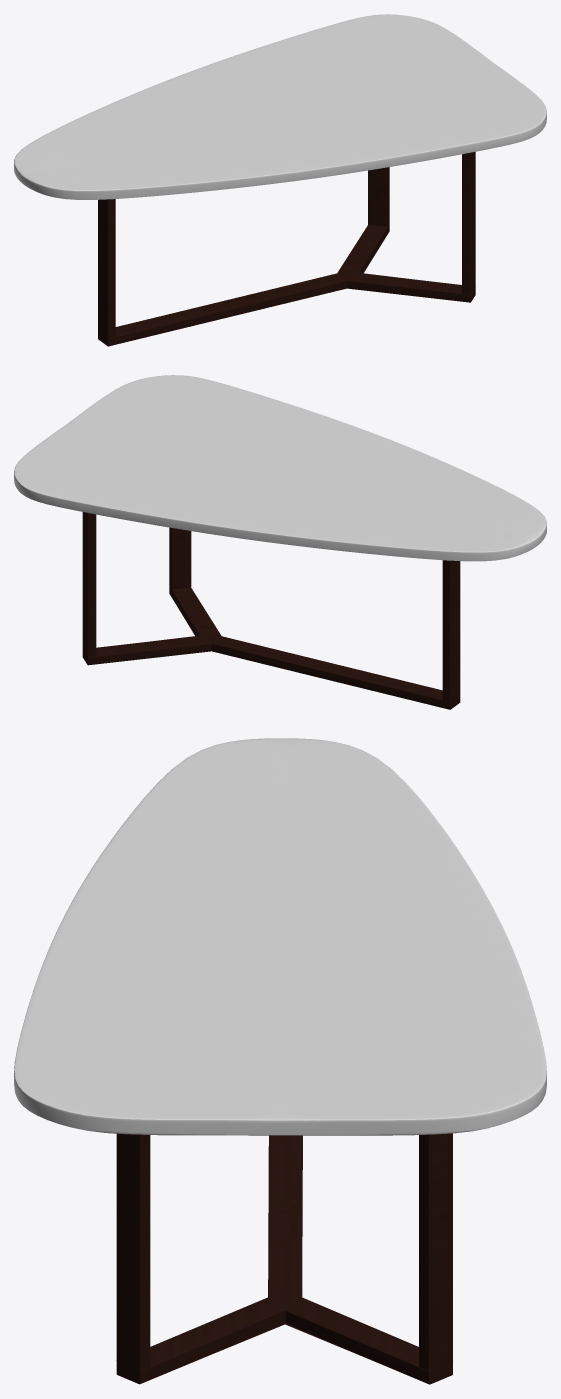
3 renders of one model, top to bottom at view 1: azimuth 30°, elevation 25°; view 2: azimuth 150°, elevation 25°; view 3: azimuth 270°, elevation 25°, orthographic. The views are drawn at different scales.
Parts seen in each view (by area): view 1: C-skp165F; view 2: C-skp165F; view 3: C-skp165F.
Boxes of the visible parts, <box> form: C-skp165F: <box>14,14,546,346</box>; C-skp165F: <box>14,375,546,709</box>; C-skp165F: <box>14,738,546,1384</box>.
Size of the model in its own units: 1.26 by 0.4815 by 0.7416.
Materials: 2 (1 with a texture image).
